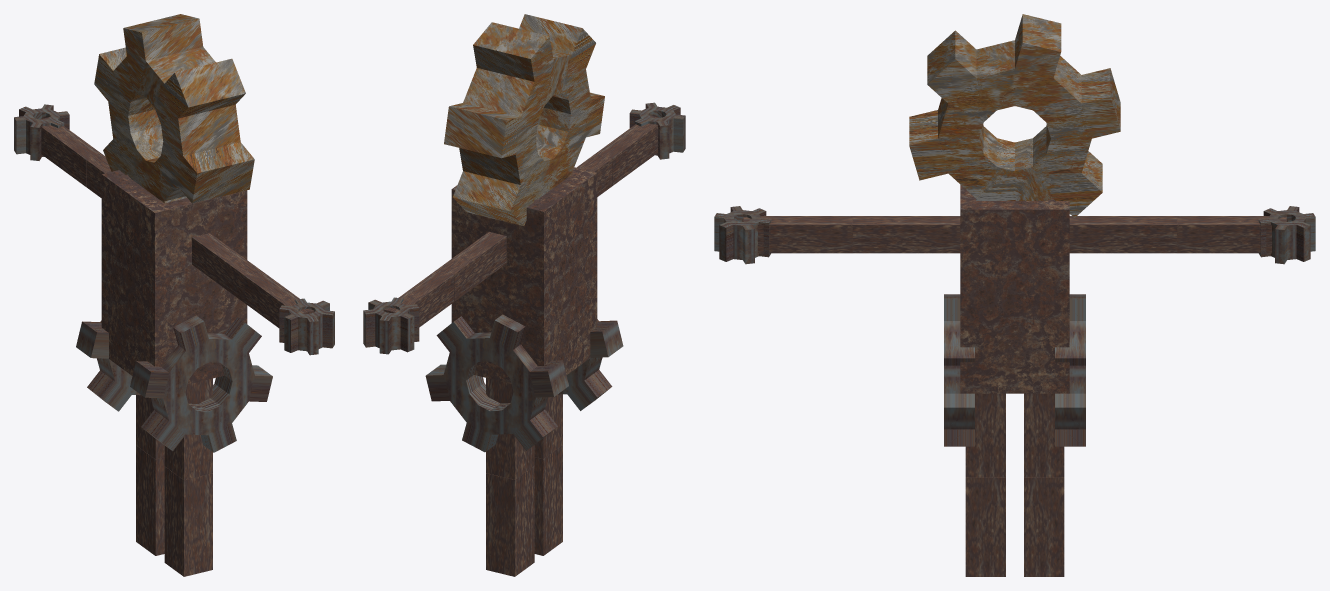
File: CogMan.fbx
The picture shows the model from 3 angles, left to right: view 1: azimuth 30°, elevation 25°; view 2: azimuth 150°, elevation 25°; view 3: azimuth 270°, elevation 25°; orthographic projection. The views are drawn at different scales.
Visible parts, largest first — view 1: Head, Body, CogHip, BottomLeg, CogHand, Forearm, TopLeg, UpperArm; view 2: Head, Body, CogHip, BottomLeg, CogHand, Forearm, UpperArm, TopLeg; view 3: Head, Body, UpperArm, BottomLeg, CogHip, Forearm, TopLeg, CogHand.
Part boxes in pixels (bbox=[...]): Head: bbox=[94, 14, 254, 203]; Body: bbox=[101, 170, 247, 384]; CogHip: bbox=[76, 315, 272, 452]; BottomLeg: bbox=[136, 445, 212, 576]; CogHand: bbox=[14, 104, 334, 355]; Forearm: bbox=[40, 117, 314, 327]; TopLeg: bbox=[136, 378, 212, 480]; UpperArm: bbox=[86, 155, 261, 302]; Head: bbox=[444, 14, 604, 225]; Body: bbox=[451, 167, 597, 383]; CogHip: bbox=[425, 314, 623, 452]; BottomLeg: bbox=[486, 445, 562, 576]; CogHand: bbox=[363, 102, 685, 354]; Forearm: bbox=[384, 115, 659, 327]; UpperArm: bbox=[436, 154, 612, 301]; TopLeg: bbox=[486, 378, 562, 479]; Head: bbox=[909, 14, 1120, 217]; Body: bbox=[960, 185, 1069, 393]; UpperArm: bbox=[852, 216, 1177, 253]; BottomLeg: bbox=[965, 477, 1064, 576]; CogHip: bbox=[944, 294, 1085, 446]; Forearm: bbox=[743, 216, 1286, 253]; TopLeg: bbox=[965, 393, 1064, 477]; CogHand: bbox=[714, 206, 1315, 264].
Size of the model in its own units: 278 by 1094 by 1101.
8 materials, 8 textured.
